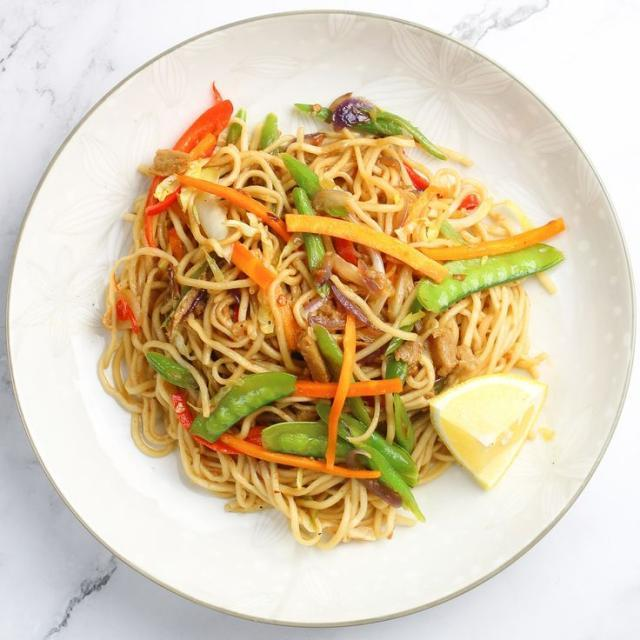pancit bihon: (13, 7, 640, 625)
